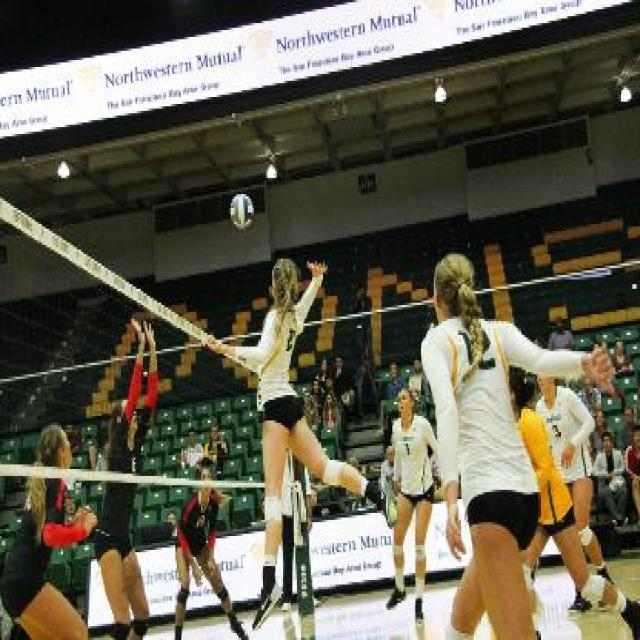volleyball: (230, 193, 254, 230)
